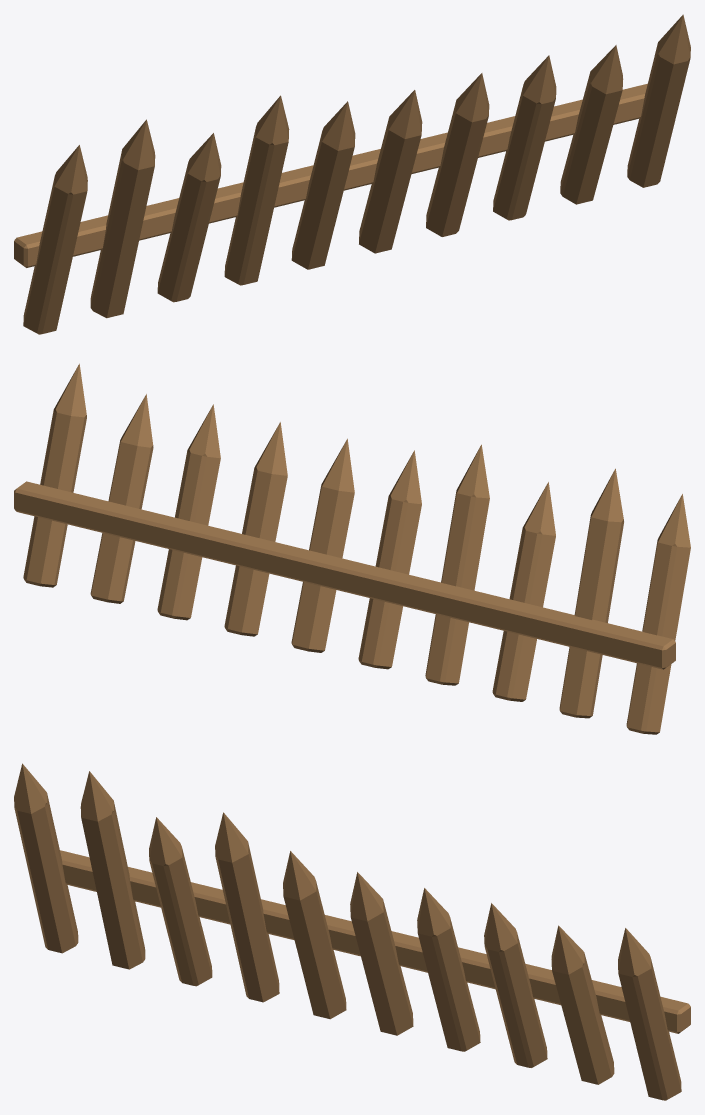
The model's file is stakes_row.glb.
3 views of the same model, one above another, from view 1: azimuth 30°, elevation 25°; view 2: azimuth 150°, elevation 25°; view 3: azimuth 330°, elevation 25° (orthographic).
Parts seen in each view (by area): view 1: stakes_row; view 2: stakes_row; view 3: stakes_row.
Boxes of the visible parts, x1,y1,x2,y2 form: stakes_row: (14, 14, 690, 334); stakes_row: (14, 363, 690, 734); stakes_row: (14, 763, 690, 1100).
Size of the model in its own units: 2.92 by 0.9518 by 0.3678.
